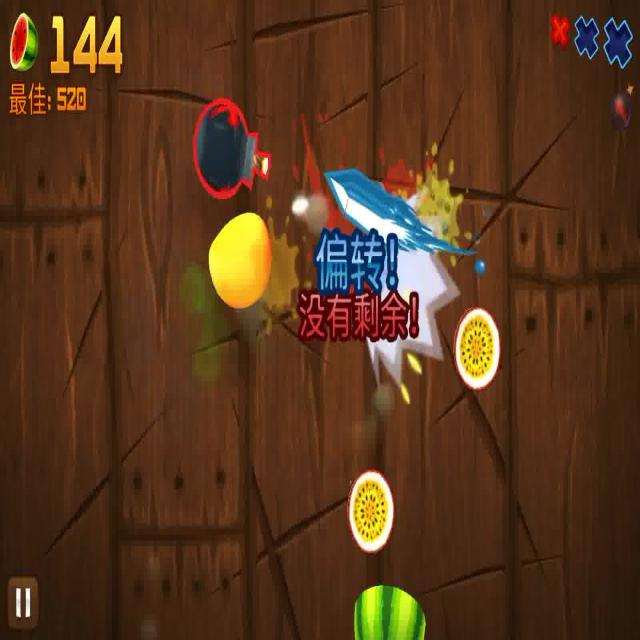bomb: (192, 89, 273, 197)
fruit: (204, 213, 278, 308), (452, 299, 503, 396), (347, 584, 432, 640), (346, 469, 396, 551)
